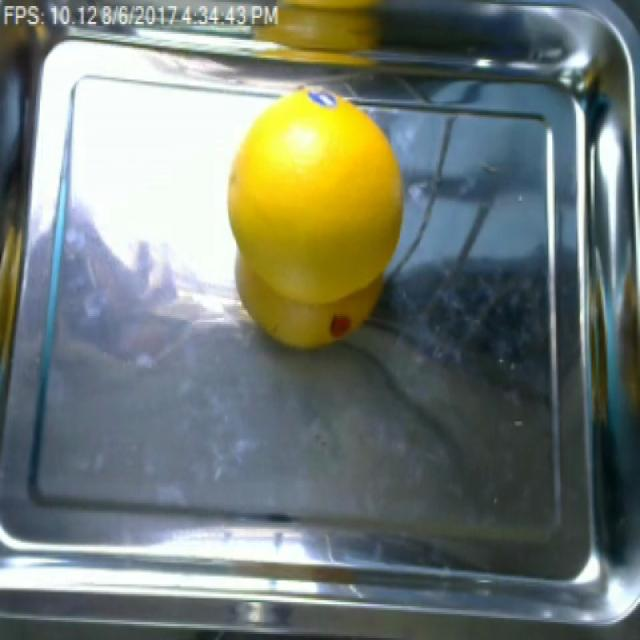Fruit: (220, 85, 408, 358), (248, 0, 405, 62)
